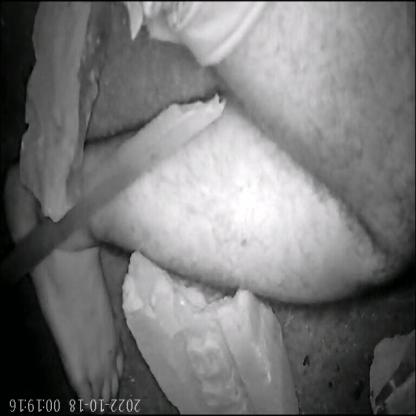leg: (0, 89, 416, 416)
